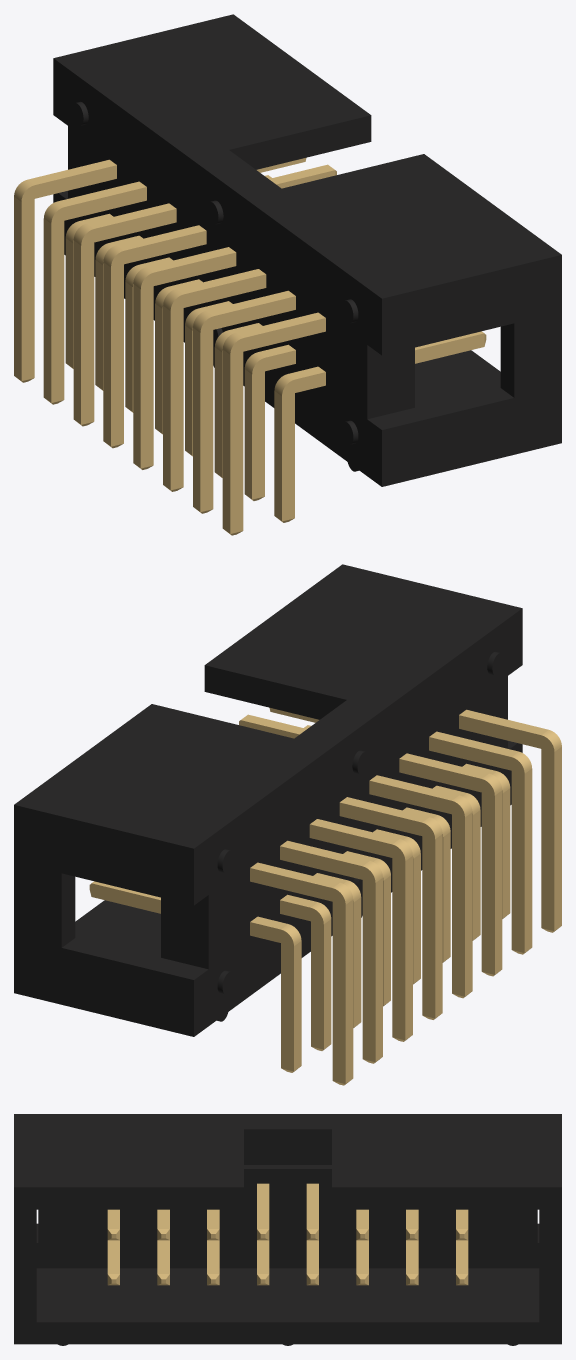
File: kc-idc-header_2x08_p2.54mm_horizontal.glb
The picture shows the model from 3 angles, top to bottom: view 1: azimuth 30°, elevation 25°; view 2: azimuth 150°, elevation 25°; view 3: azimuth 270°, elevation 25°; orthographic projection. The views are drawn at different scales.
Visible parts, largest first — view 1: 0_0_0_0, 0.75_0.5_0.25_0.9; view 2: 0_0_0_0, 0.75_0.5_0.25_0.9; view 3: 0_0_0_0, 0.75_0.5_0.25_0.9.
Boxes of the visible parts, x1,y1,x2,y2 form: 0_0_0_0: [53, 14, 561, 486]; 0.75_0.5_0.25_0.9: [14, 157, 486, 535]; 0_0_0_0: [14, 564, 522, 1036]; 0.75_0.5_0.25_0.9: [89, 707, 561, 1085]; 0_0_0_0: [14, 1114, 561, 1345]; 0.75_0.5_0.25_0.9: [107, 1183, 468, 1285].
Bounding box in the file's own units: 1.35 × 1.21 × 2.8.
